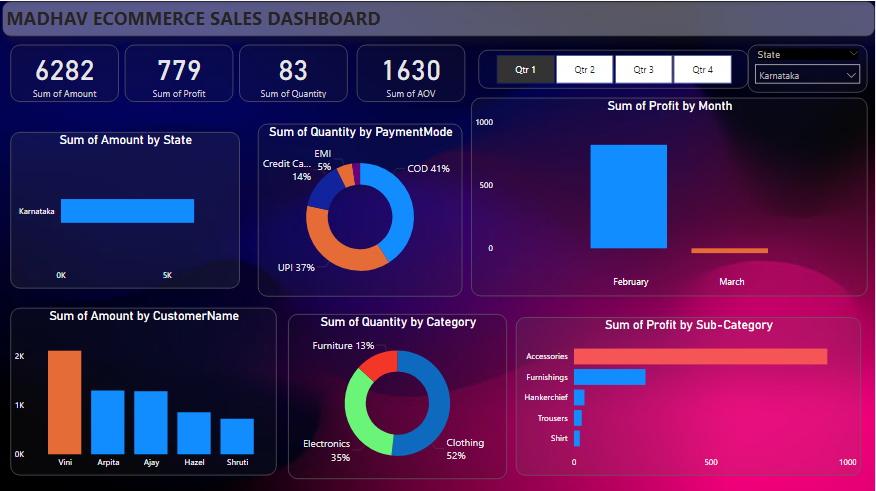

This screenshot's page, from the dashboard's own definition file:
{"tool":"powerbi","page":{"name":"Page 1","canvas":[1280,720],"ordinal":0},"visuals":[{"type":"textbox","box":[3,0,1276.8,52.4],"z":0},{"type":"columnChart","fields":{"Category":["Orders.Order Date.Variation.Date Hierarchy.Month"],"Y":["Details.Profit"]},"box":[689.1,141.5,579.5,290.5],"z":1000},{"type":"barChart","fields":{"Category":["Details.Sub-Category"],"Y":["Details.Profit"]},"box":[754.4,462.5,504.4,232],"z":2000},{"type":"donutChart","fields":{"Category":["Details.Category"],"Y":["Details.Quantity"]},"box":[422.1,458,320.3,241],"z":3000},{"type":"donutChart","fields":{"Category":["Details.PaymentMode"],"Y":["Details.Quantity"]},"box":[377.2,179.6,299.4,253],"z":4000},{"type":"card","fields":{"Values":["Details.Amount"]},"box":[15,64.4,158.7,83.8],"z":5000},{"type":"card","fields":{"Values":["Details.AOV"]},"box":[522.4,64.4,158.7,83.8],"z":6000},{"type":"card","fields":{"Values":["Details.Quantity"]},"box":[350.2,64.4,158.7,83.8],"z":7000},{"type":"card","fields":{"Values":["Details.Profit"]},"box":[182.6,64.4,158.7,83.8],"z":8000},{"type":"clusteredBarChart","fields":{"Category":["Orders.State"],"Y":["Details.Amount"]},"box":[15,191.6,335.3,229],"z":9000},{"type":"columnChart","fields":{"Category":["Orders.CustomerName"],"Y":["Details.Amount"]},"box":[15,449,389.2,245.5],"z":10000},{"type":"slicer","fields":{"Values":["Orders.Order Date.Variation.Date Hierarchy.Quarter"]},"box":[699,71.8,395.2,56.9],"z":11000},{"type":"slicer","fields":{"Values":["Orders.State"]},"box":[1094.1,64.4,175.1,70.3],"z":12000}]}

Visuals, with their boxes in screenshot pixels (x1, y1, x2, y2), scaled from the page's 1280x720 canvas onto the 876x491 screenshot:
textbox: {"left": 2, "top": 0, "right": 875, "bottom": 36}
columnChart - Orders.Order Date.Variation.Date Hierarchy.Month x Details.Profit: {"left": 472, "top": 96, "right": 868, "bottom": 295}
barChart - Details.Sub-Category x Details.Profit: {"left": 516, "top": 315, "right": 861, "bottom": 474}
donutChart - Details.Category x Details.Quantity: {"left": 289, "top": 312, "right": 508, "bottom": 477}
donutChart - Details.PaymentMode x Details.Quantity: {"left": 258, "top": 122, "right": 463, "bottom": 295}
card - Details.Amount: {"left": 10, "top": 44, "right": 119, "bottom": 101}
card - Details.AOV: {"left": 358, "top": 44, "right": 466, "bottom": 101}
card - Details.Quantity: {"left": 240, "top": 44, "right": 348, "bottom": 101}
card - Details.Profit: {"left": 125, "top": 44, "right": 234, "bottom": 101}
clusteredBarChart - Orders.State x Details.Amount: {"left": 10, "top": 131, "right": 240, "bottom": 287}
columnChart - Orders.CustomerName x Details.Amount: {"left": 10, "top": 306, "right": 277, "bottom": 474}
slicer - Orders.Order Date.Variation.Date Hierarchy.Quarter: {"left": 478, "top": 49, "right": 749, "bottom": 88}
slicer - Orders.State: {"left": 749, "top": 44, "right": 869, "bottom": 92}
